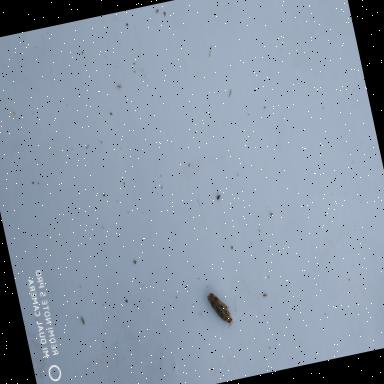pbw: (207, 288, 236, 328)
